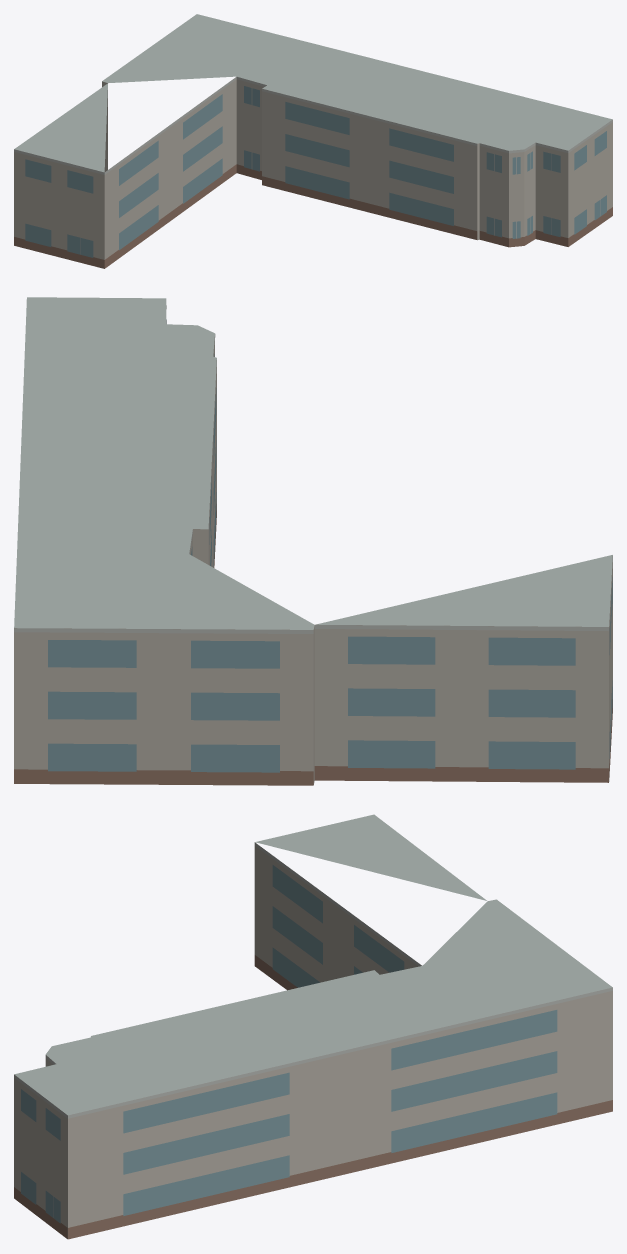
The model's file is survey-upis-32930274.glb.
3 views of the same model, one above another, from view 1: azimuth 30°, elevation 25°; view 2: azimuth 150°, elevation 25°; view 3: azimuth 270°, elevation 25° (orthographic). The views are drawn at different scales.
Parts seen in each view (by area): view 1: survey-upis-32930274.tmp; view 2: survey-upis-32930274.tmp; view 3: survey-upis-32930274.tmp.
Boxes of the visible parts, left/top/right/bottom form: survey-upis-32930274.tmp: left=14, top=14, right=612, bottom=268; survey-upis-32930274.tmp: left=14, top=297, right=612, bottom=785; survey-upis-32930274.tmp: left=14, top=814, right=612, bottom=1239.
Size of the model in its own units: 47.63 by 9.15 by 40.05.
